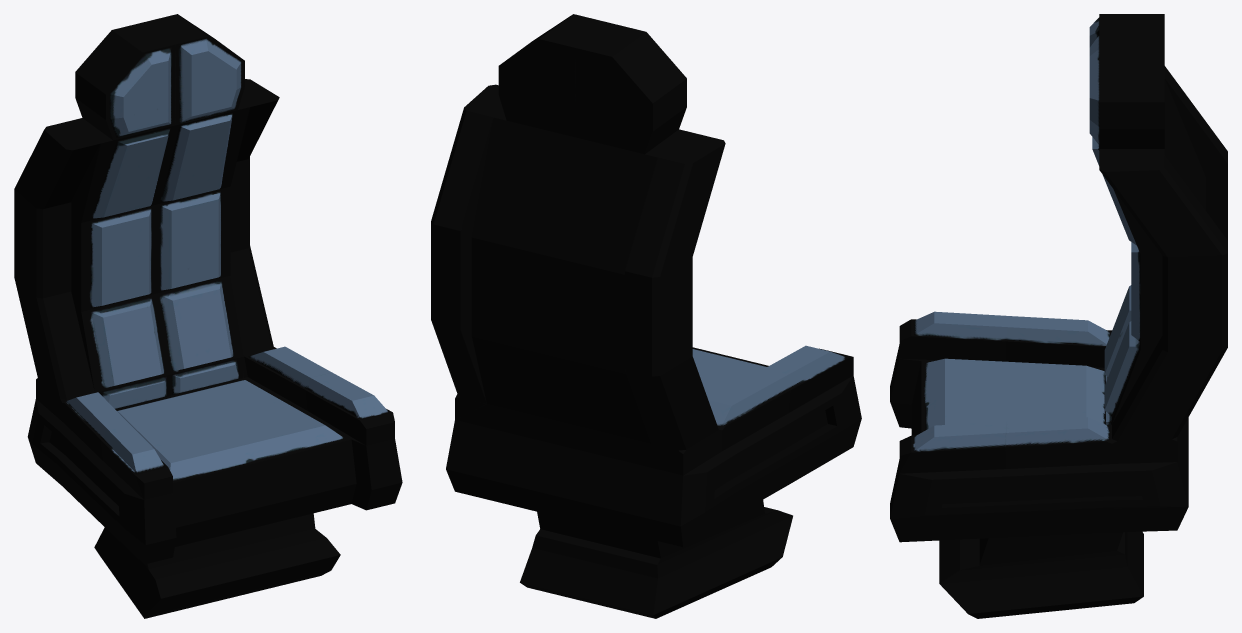
Rendered from Armchair.fbx.
The picture shows the model from 3 angles, left to right: view 1: azimuth 30°, elevation 25°; view 2: azimuth 150°, elevation 25°; view 3: azimuth 270°, elevation 25°; orthographic projection. The views are drawn at different scales.
Parts seen in each view (by area): view 1: node_id4; view 2: node_id4; view 3: node_id4.
Boxes of the visible parts, x1,y1,x2,y2 form: node_id4: (14,14,402,618); node_id4: (431,14,861,618); node_id4: (890,14,1227,618).
Bounding box in the file's own units: 0.2775 × 0.512 × 0.2891.
1 material, 1 textured.
